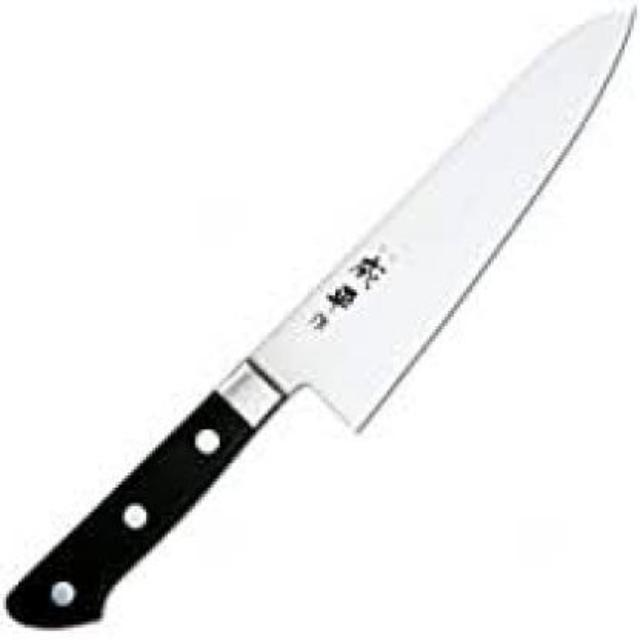Knife: (6, 4, 638, 626)
